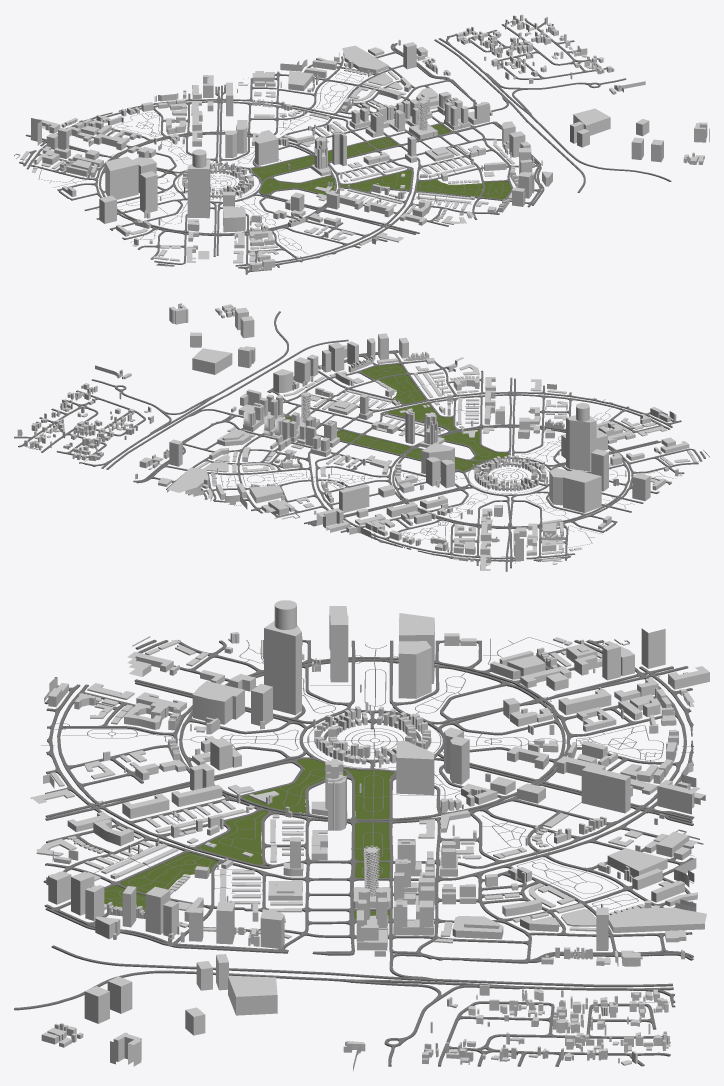
Rendered from mini_map.glb.
3 views of the same model, one above another, from view 1: azimuth 30°, elevation 25°; view 2: azimuth 150°, elevation 25°; view 3: azimuth 270°, elevation 25° (orthographic). The views are drawn at different scales.
Parts seen in each view (by area): view 1: build, road, tree; view 2: build, road, tree; view 3: build, road, tree.
Boxes of the visible parts, x1,y1,x2,y2 form: build: (14, 14, 709, 271); road: (19, 18, 671, 274); tree: (251, 124, 511, 199); build: (17, 303, 709, 570); road: (14, 311, 705, 571); tree: (285, 364, 508, 471); build: (30, 600, 709, 1071); road: (14, 637, 694, 1066); tree: (104, 759, 394, 919).
Size of what is drawn, in the model's own units: 2734 by 297 by 1850.
3 materials, 1 textured.
